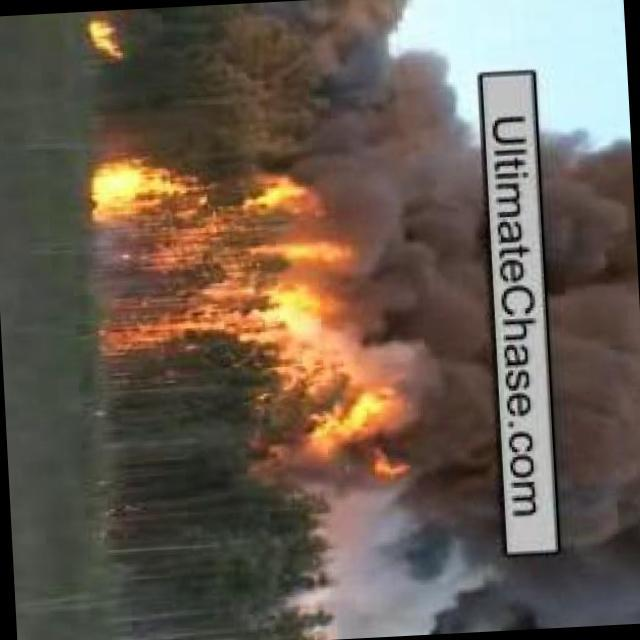Fire: (86, 149, 364, 349), (268, 353, 418, 496), (90, 14, 128, 68)
